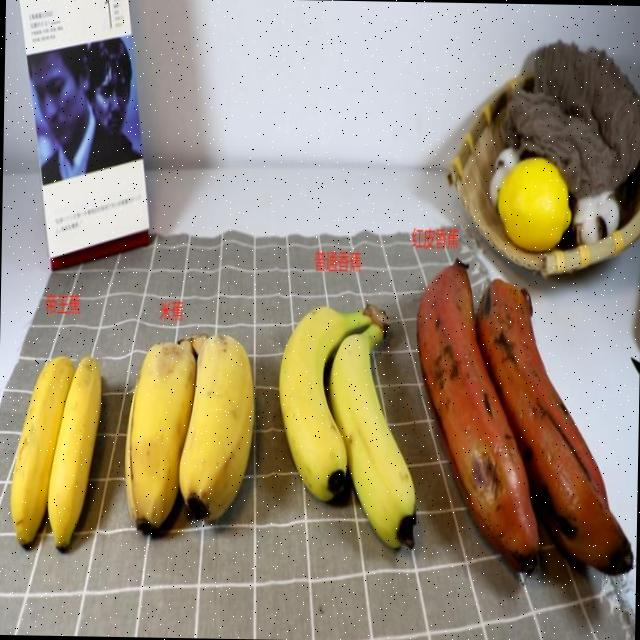banana-peel: (325, 305, 420, 551), (274, 301, 372, 505), (177, 332, 256, 522), (122, 336, 196, 536), (8, 352, 73, 550), (45, 353, 101, 551)
